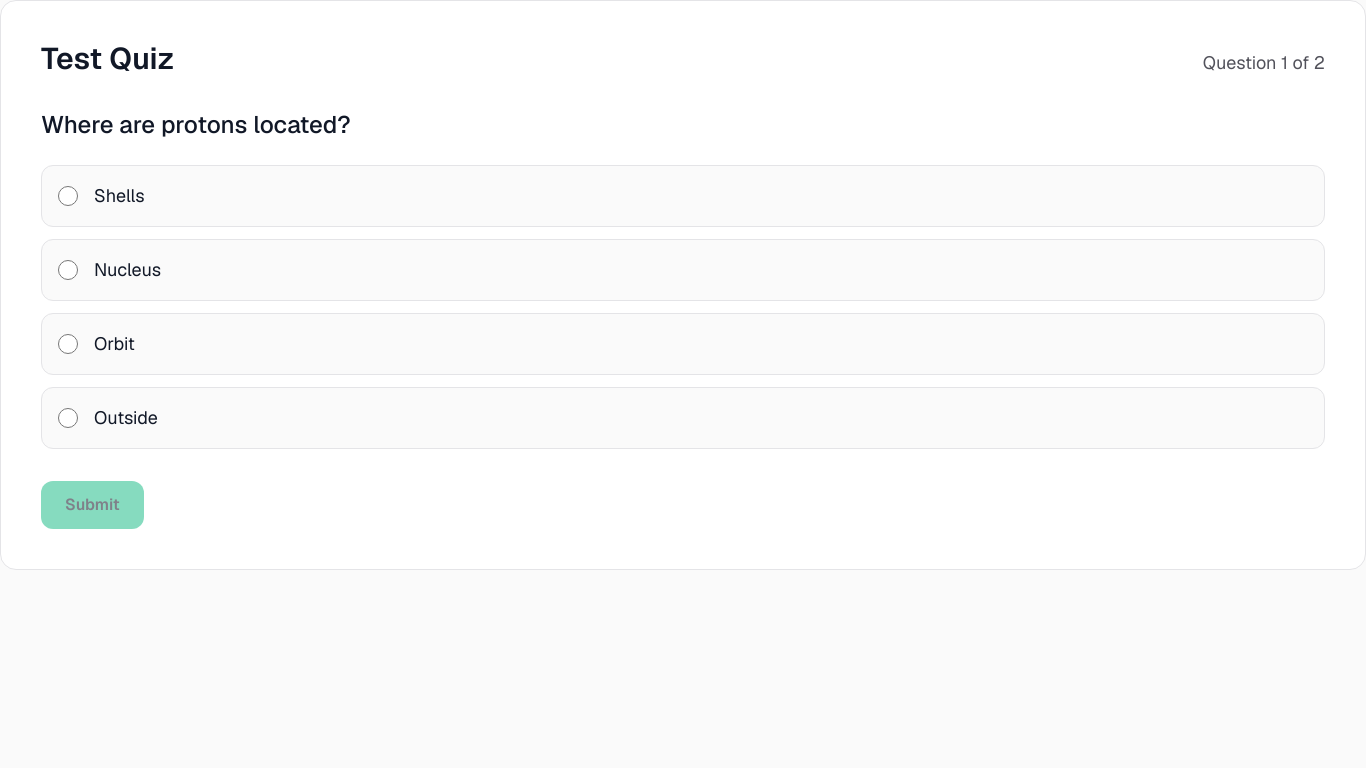
Test case: QuizShell › uses the server result and destination after the final answer
Click the radio button labelled "Nucleus".
click(68, 270)  # box [58,260,78,280]
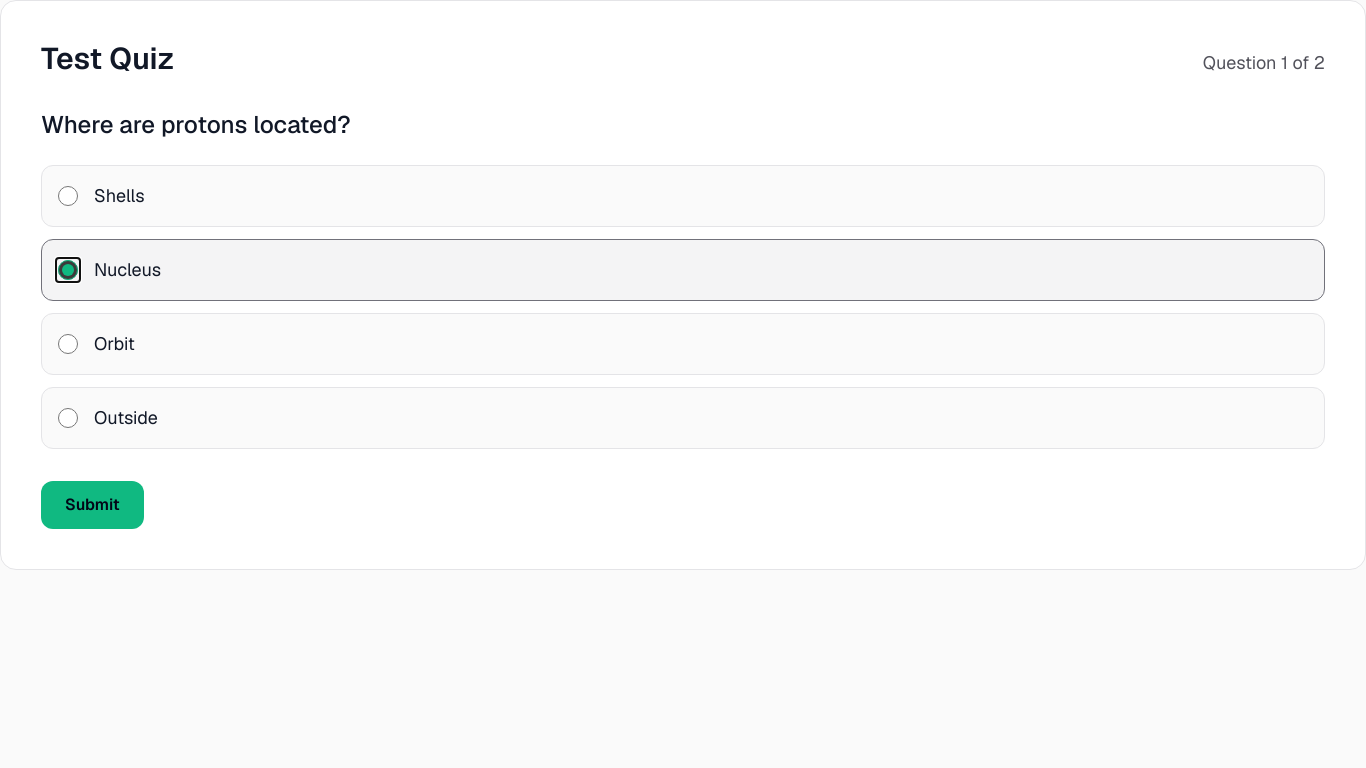
Click the button "Submit".
click(92, 505)  # box [41,481,144,529]
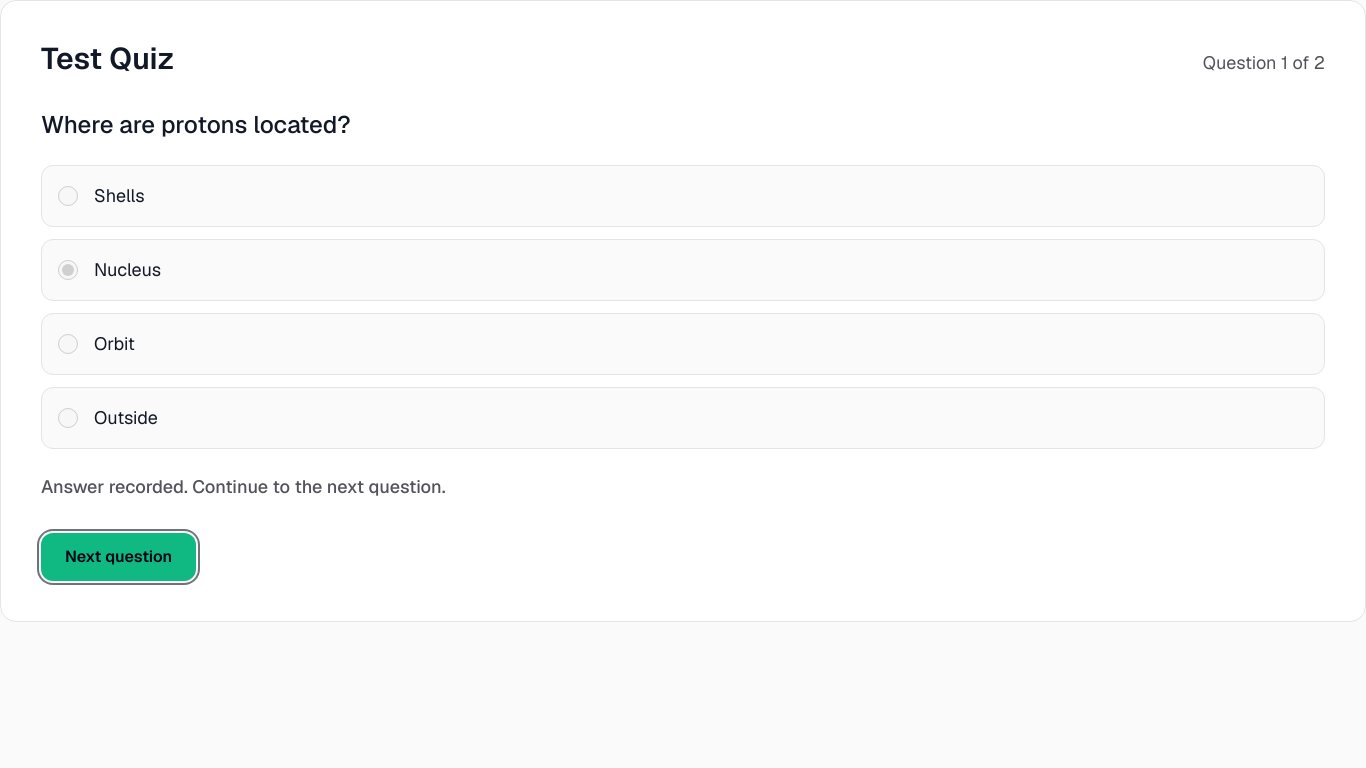
Click the button "Next question".
click(119, 557)  # box [41,533,196,581]
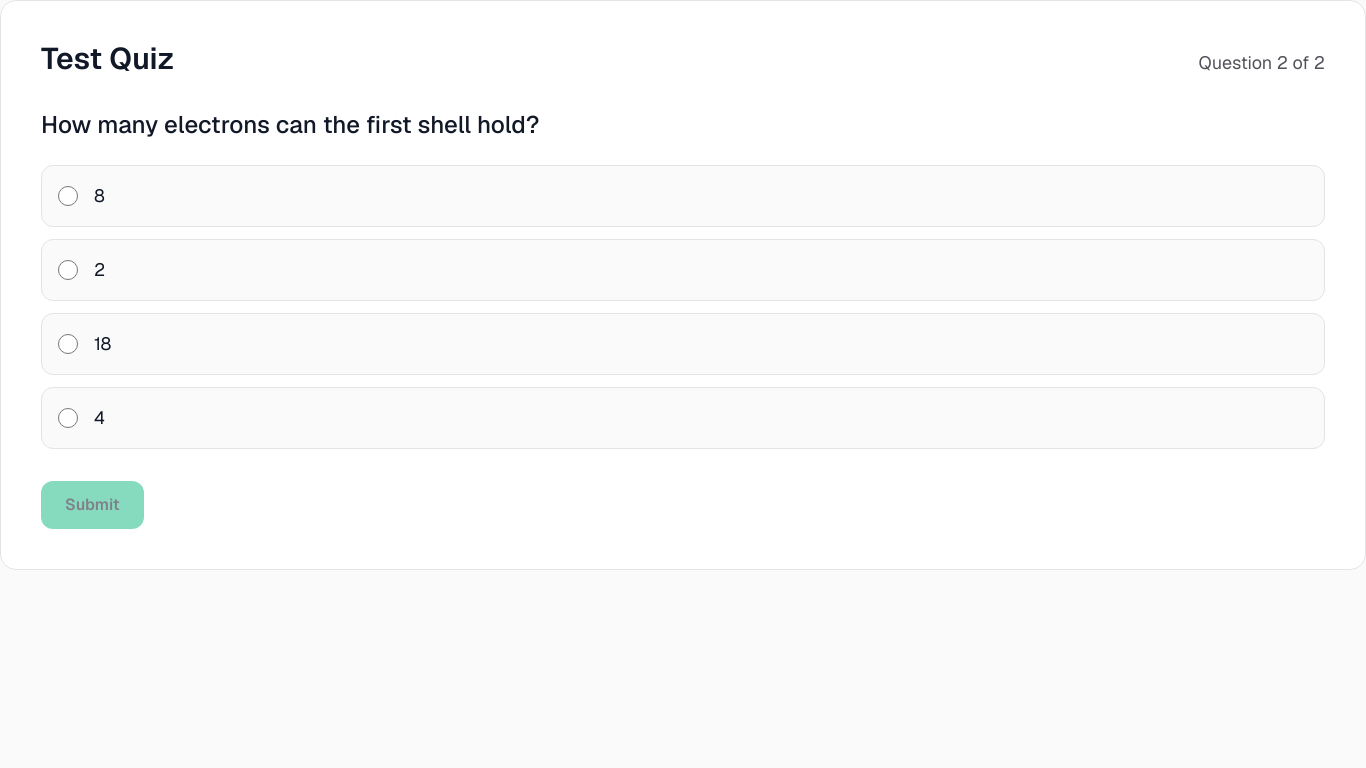
Click the radio button labelled "2".
click(68, 270)  # box [58,260,78,280]
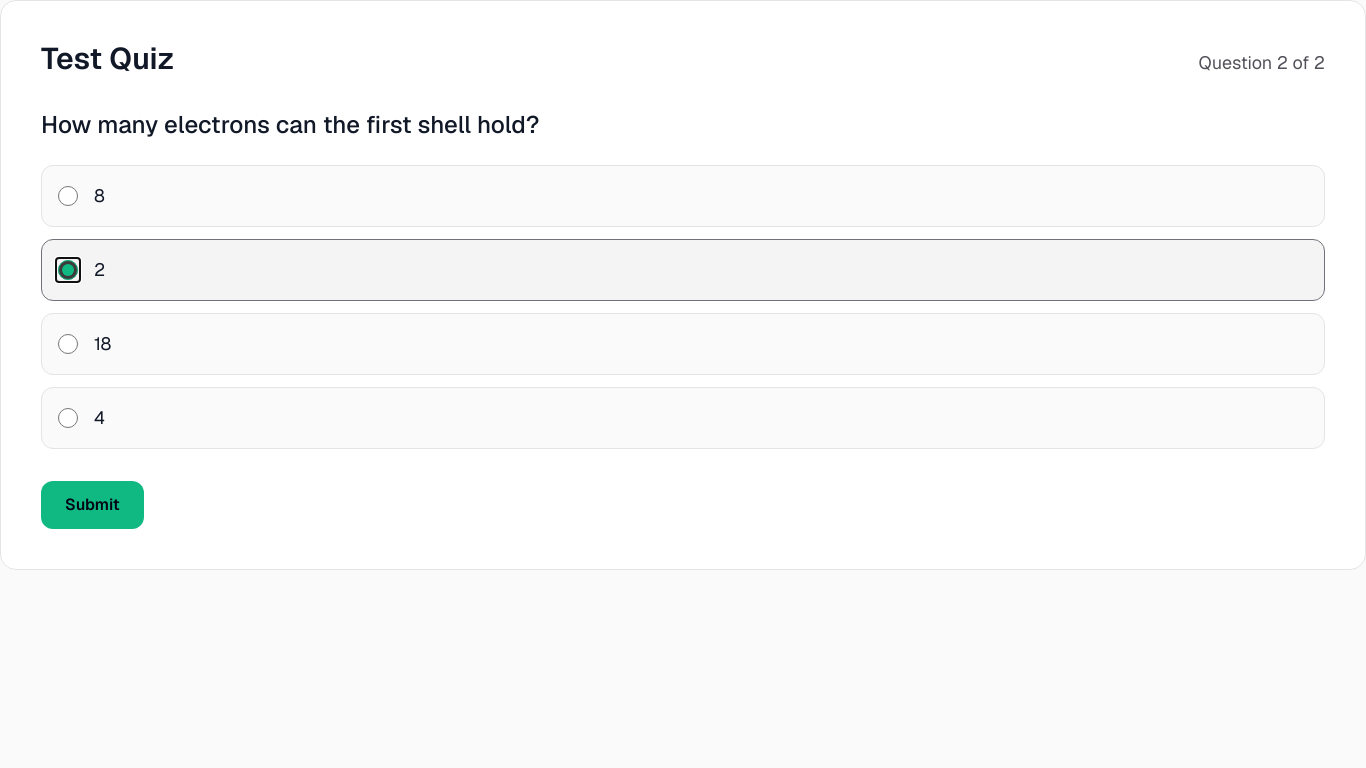
Click the button "Submit".
click(92, 505)  # box [41,481,144,529]
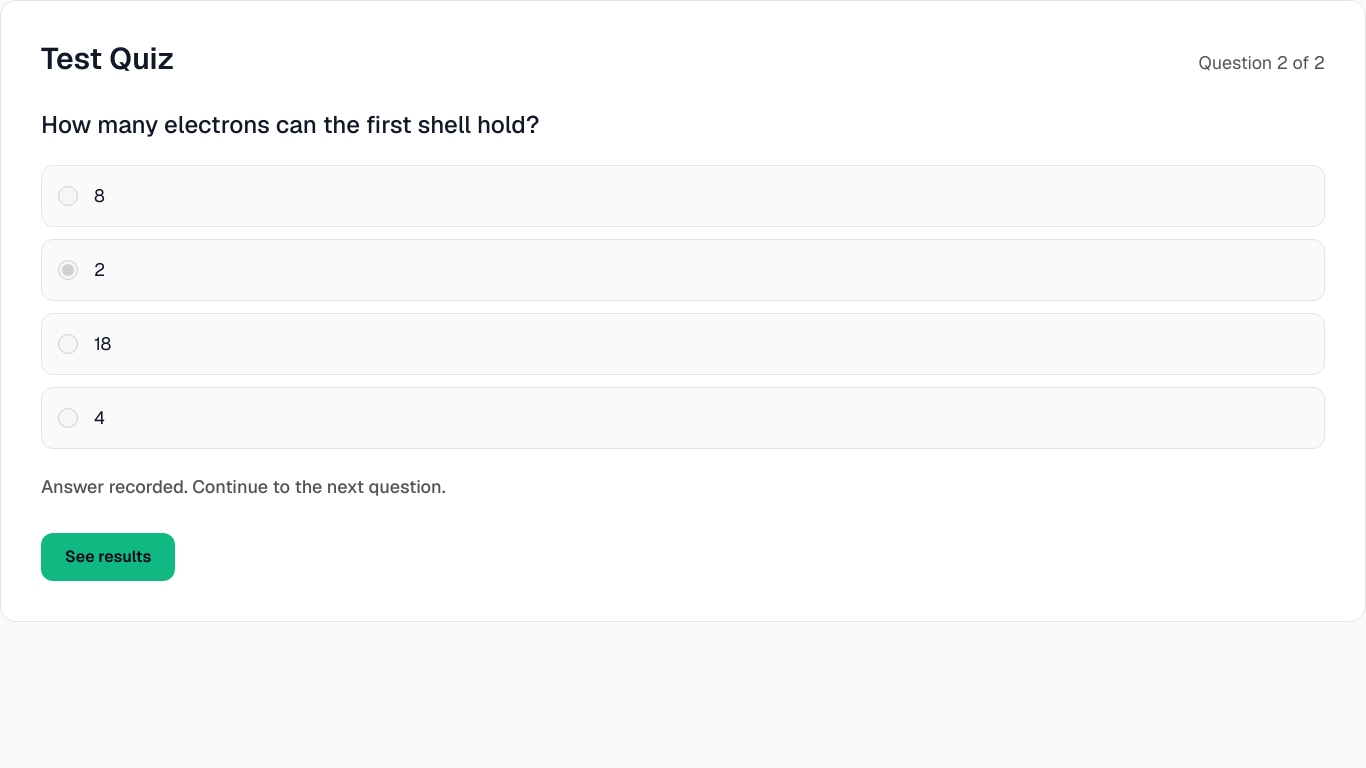
Click the button "See results".
click(108, 557)  # box [41,533,175,581]
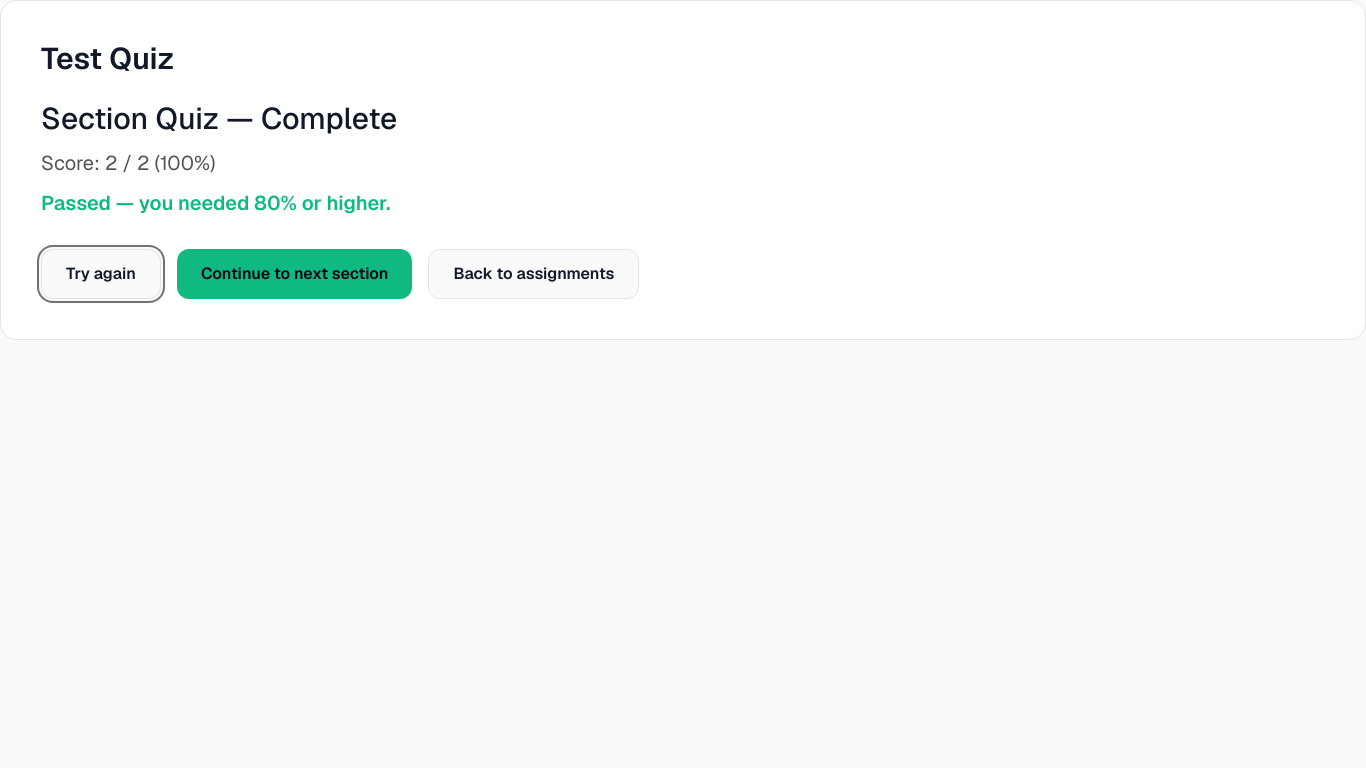
Expected: the text "Score: 2 / 2 (100%)" is shown, [41,150,216,176]
